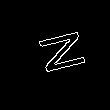N_W: (26, 29, 84, 81)
